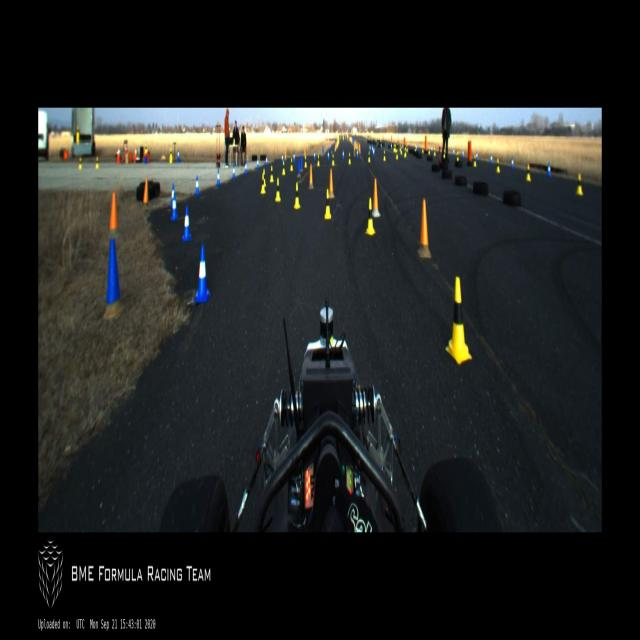blue_cone: (194, 245, 211, 303), (182, 206, 192, 243), (170, 196, 178, 220), (170, 185, 175, 209), (195, 175, 200, 197), (216, 168, 221, 188), (243, 160, 248, 174), (547, 161, 551, 177), (232, 165, 236, 180), (265, 154, 269, 166), (292, 151, 296, 163), (281, 152, 284, 165), (256, 157, 259, 169), (177, 150, 180, 162), (342, 150, 345, 158), (511, 157, 513, 169), (490, 154, 492, 164), (328, 151, 330, 160), (373, 147, 375, 156), (356, 150, 358, 158), (462, 150, 464, 158), (369, 146, 371, 152), (453, 149, 455, 155), (314, 152, 315, 160), (476, 152, 477, 160)
orange_cone: (117, 147, 121, 164), (134, 146, 137, 162)
unknown_cone: (105, 239, 124, 316), (418, 198, 430, 257), (108, 193, 120, 238), (372, 178, 381, 217), (328, 168, 335, 198), (143, 178, 149, 203), (308, 164, 314, 188), (467, 142, 473, 166), (424, 135, 428, 154), (300, 153, 303, 172), (297, 159, 300, 176), (284, 148, 287, 160), (358, 144, 361, 154), (304, 146, 306, 158), (322, 144, 324, 156), (334, 142, 336, 152), (357, 142, 359, 150), (355, 142, 357, 149), (331, 144, 332, 153), (354, 146, 355, 154)
yellow_cone: (445, 276, 473, 364), (366, 198, 376, 235), (324, 189, 332, 220), (293, 182, 301, 210), (576, 171, 583, 195), (261, 174, 266, 193), (526, 164, 531, 182), (269, 164, 274, 182), (276, 178, 280, 200), (281, 160, 286, 175), (76, 127, 80, 144), (263, 168, 266, 187), (496, 158, 500, 172), (290, 157, 294, 171), (331, 154, 335, 166), (473, 155, 477, 167), (304, 155, 307, 168), (79, 157, 82, 169), (170, 148, 172, 164), (368, 152, 371, 162), (96, 156, 98, 169), (318, 154, 320, 166), (384, 149, 386, 161), (456, 150, 458, 162), (349, 153, 351, 164), (404, 147, 406, 158), (145, 143, 147, 154), (428, 146, 430, 156), (434, 148, 436, 157), (396, 150, 398, 158), (394, 144, 396, 152), (401, 148, 402, 154)
